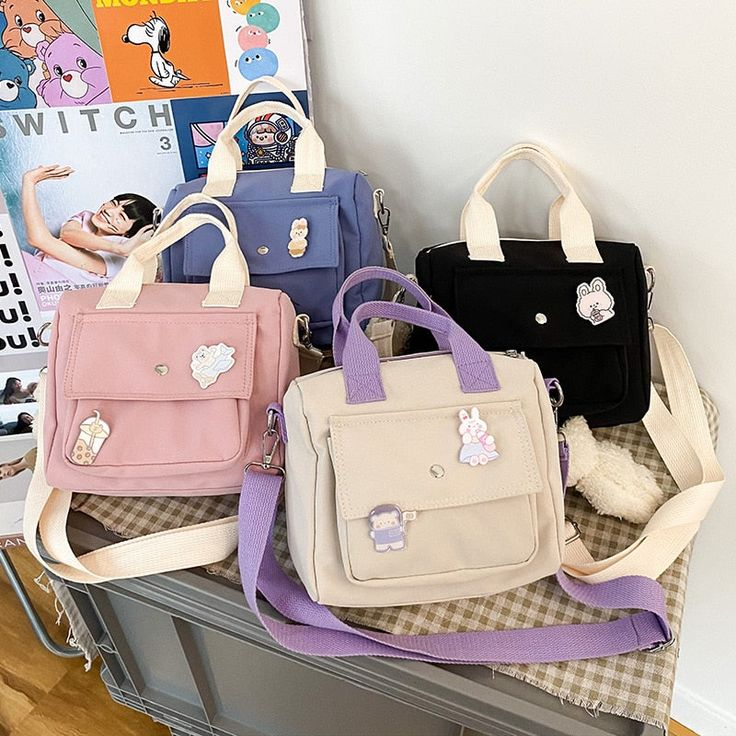nylon: (43, 166, 652, 608)
